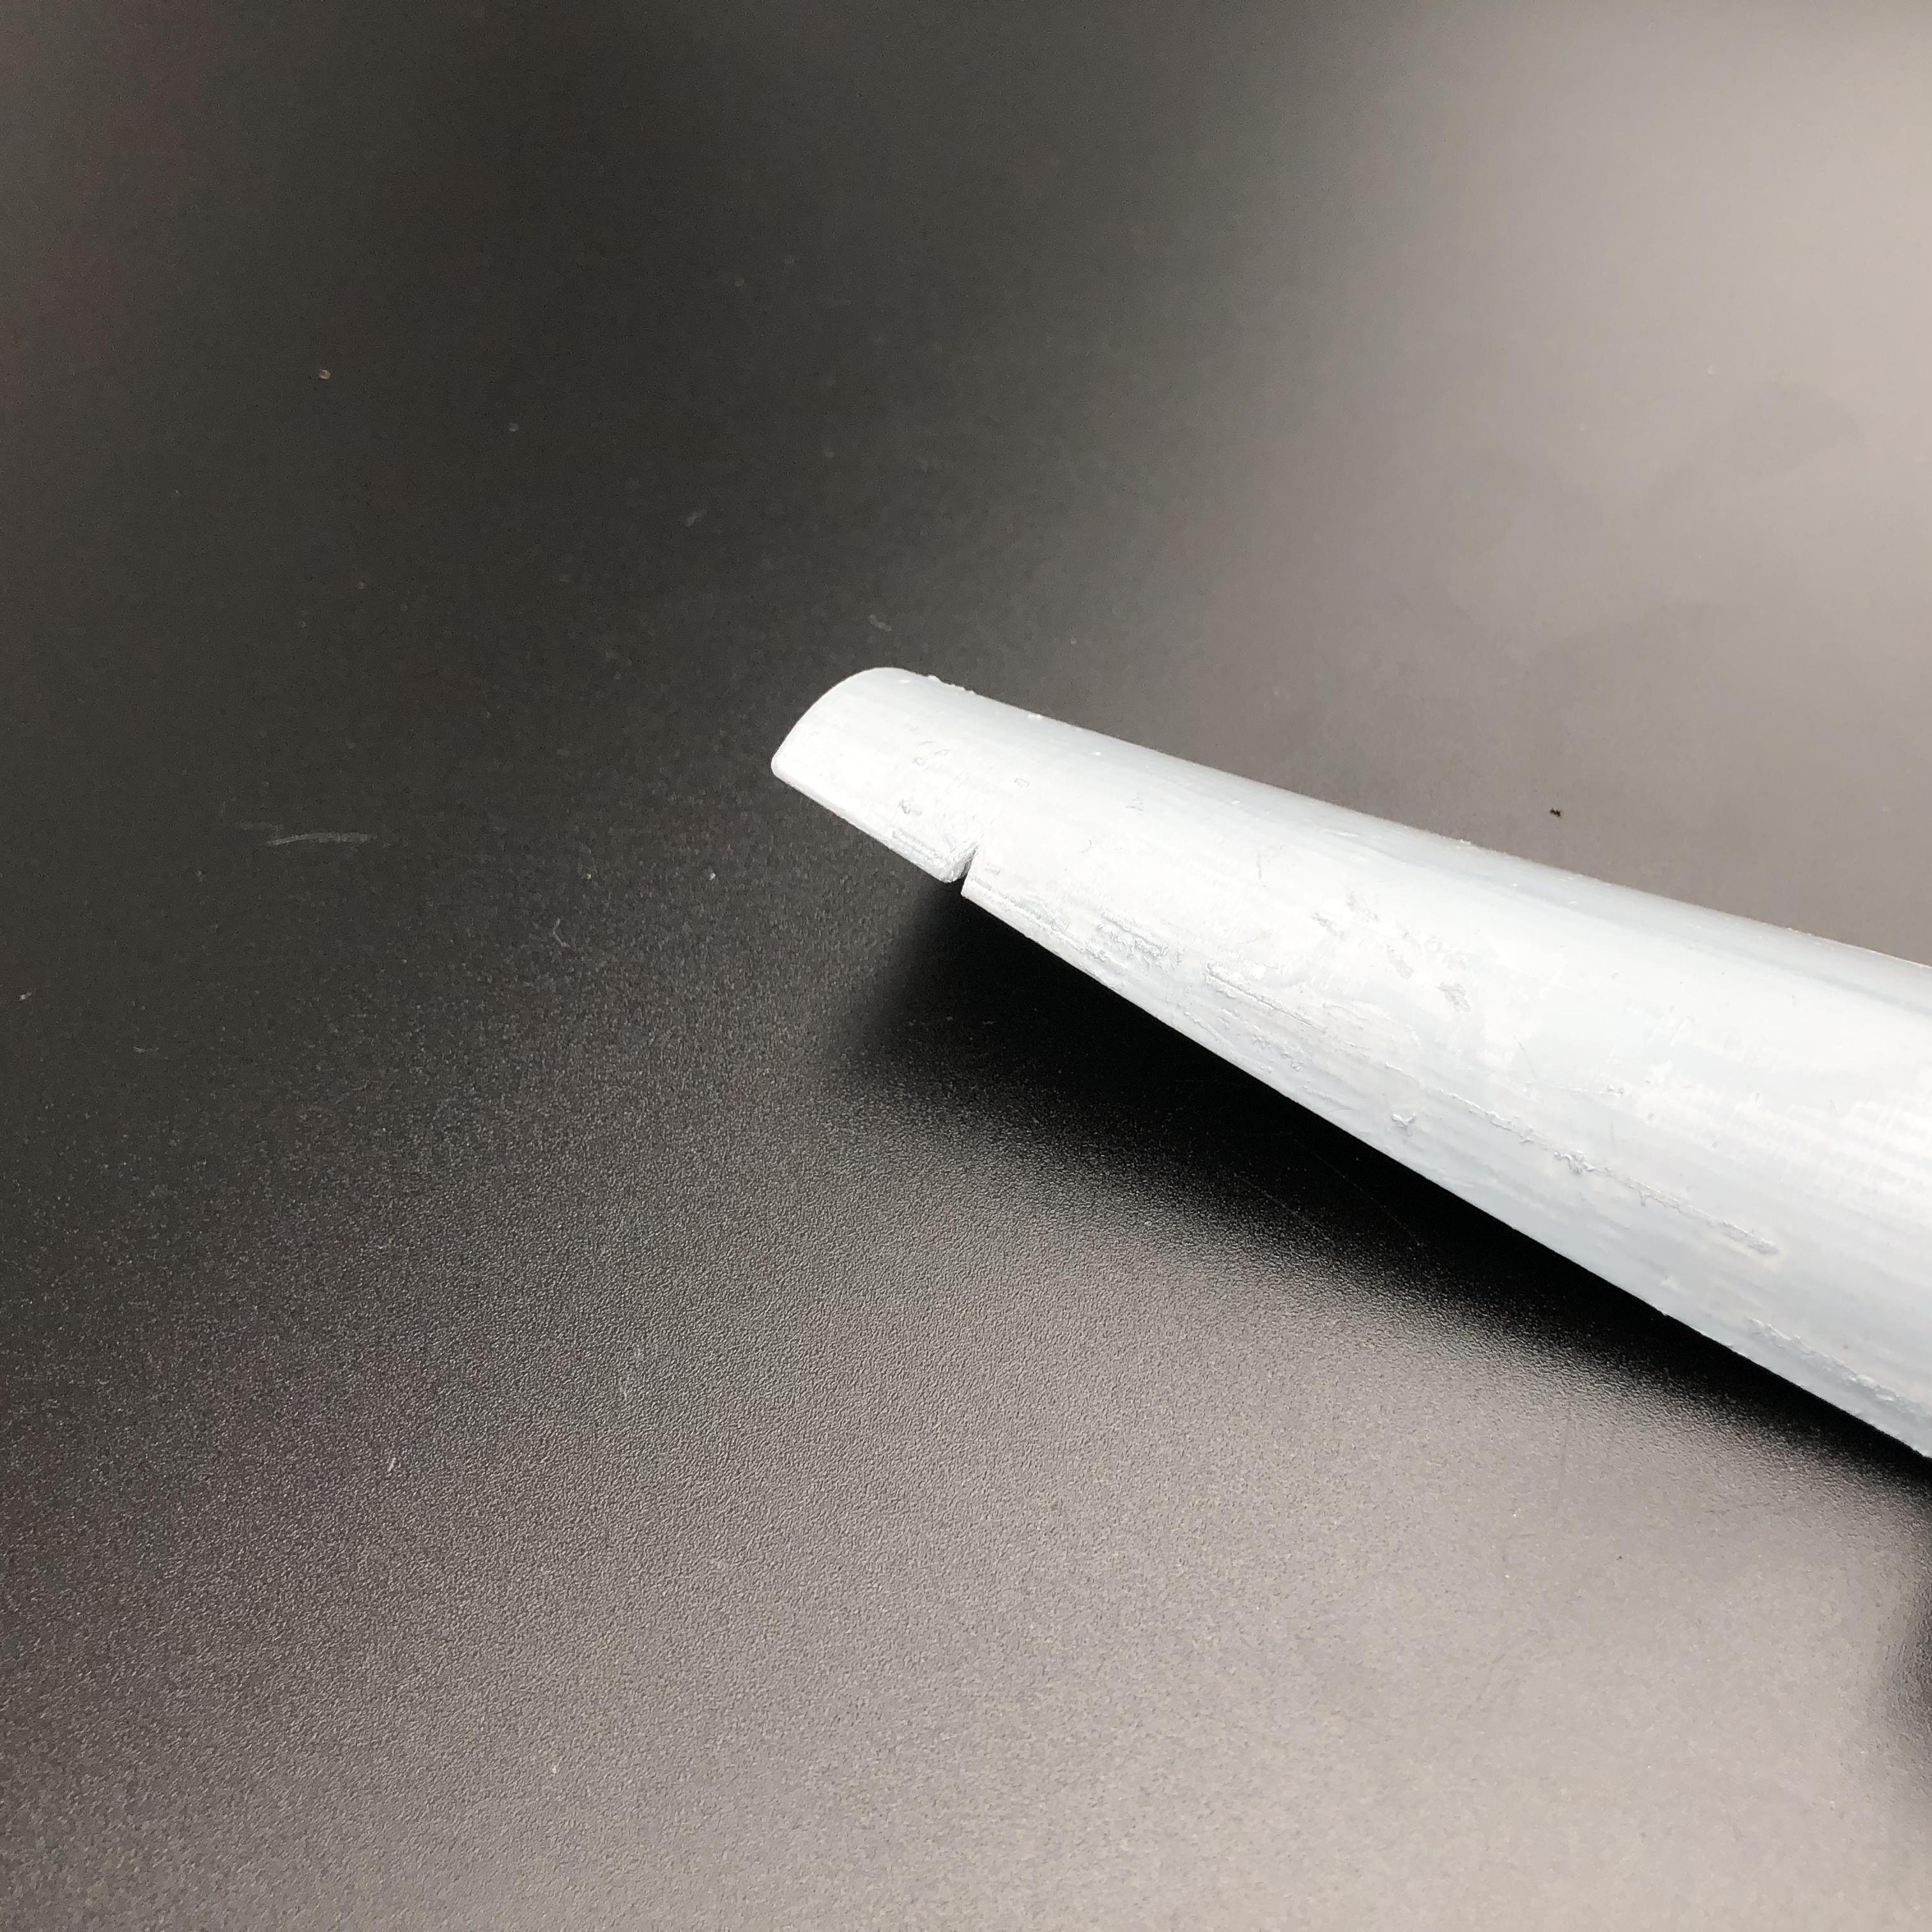groove: (941, 847, 991, 897)
